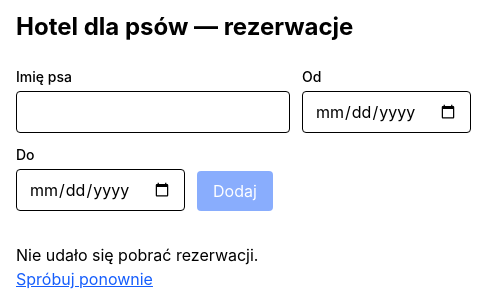
Test case: Reservation list › shows fetch error and retries when requested
expect the text "Nie udało się pobrać rezerwacji." is shown: met, box [16,245,258,265]
Click the button "Spróbuj ponownie" at (84, 279), box [16,267,153,291]
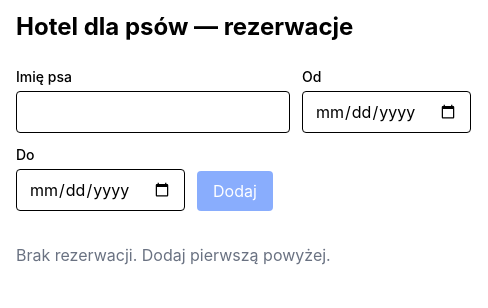
expect the text "Brak rezerwacji. Dodaj pierwszą powyżej." is shown: met, box [16,245,331,265]
